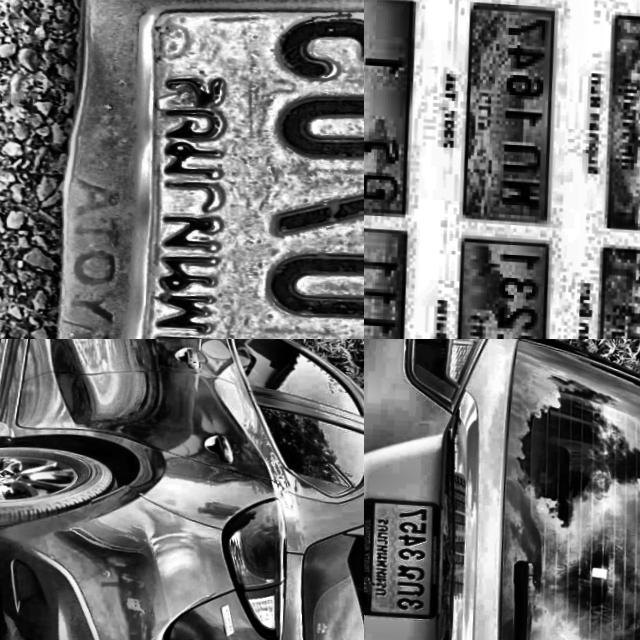license-plate: (4, 0, 364, 339), (458, 0, 559, 222), (445, 232, 553, 339), (364, 0, 416, 215), (364, 494, 442, 619), (603, 15, 640, 233), (364, 223, 410, 339), (591, 245, 640, 339)
